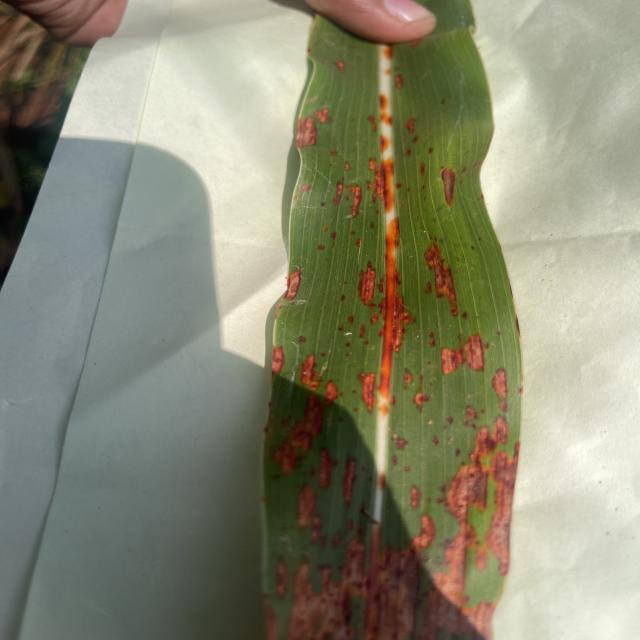millet_rust: (267, 0, 528, 640)
